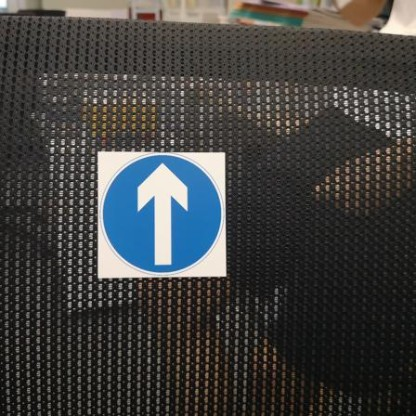forward: (96, 152, 227, 274)
